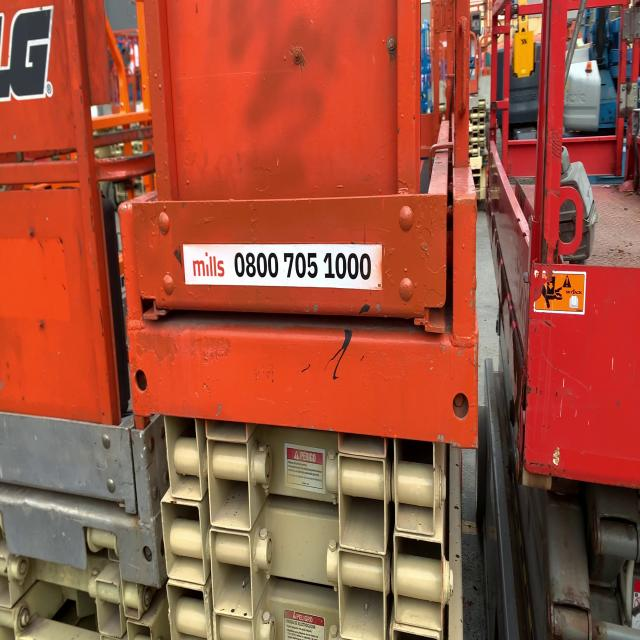Adesivo Longo: (181, 241, 384, 293)
